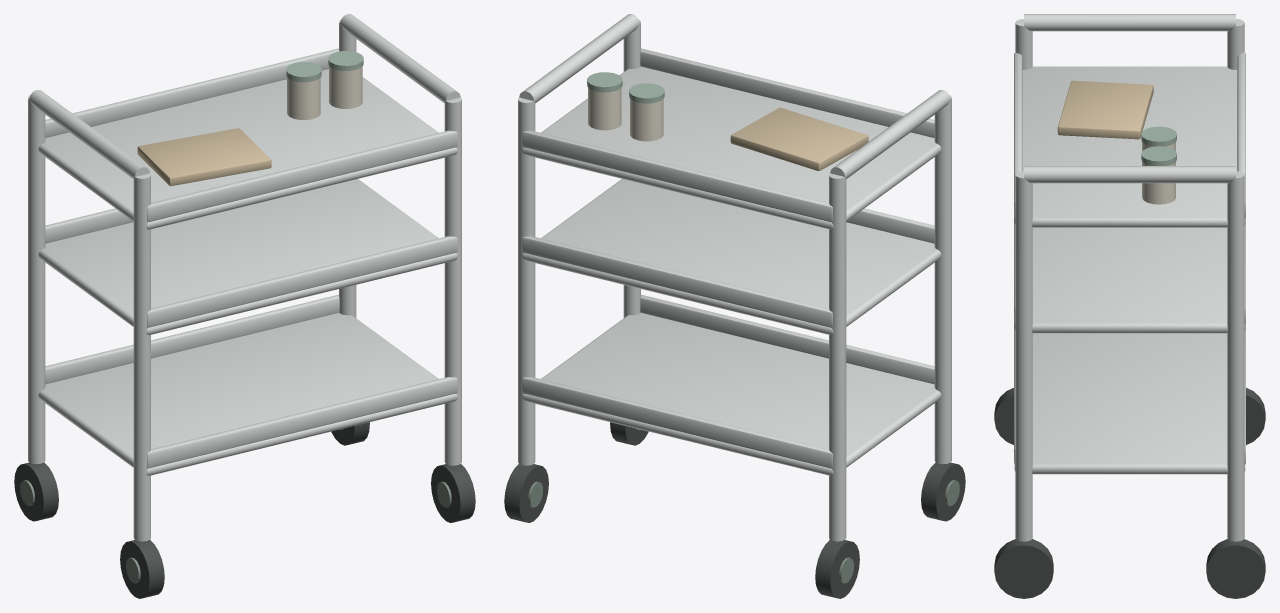
File: CTCC_PROP_MedicineCart.fbx
The picture shows the model from 3 angles, left to right: view 1: azimuth 30°, elevation 25°; view 2: azimuth 150°, elevation 25°; view 3: azimuth 270°, elevation 25°; orthographic projection.
Parts seen in each view (by area): view 1: CTCC_PROP_MedicineCart_LOD0; view 2: CTCC_PROP_MedicineCart_LOD0; view 3: CTCC_PROP_MedicineCart_LOD0.
Part boxes in pixels (left/top/right/bottom): CTCC_PROP_MedicineCart_LOD0: left=14, top=14, right=475, bottom=598; CTCC_PROP_MedicineCart_LOD0: left=504, top=14, right=965, bottom=598; CTCC_PROP_MedicineCart_LOD0: left=994, top=14, right=1265, bottom=598.
Size of what is drawn, in the model's own units: 0.782 by 0.973 by 0.558.
